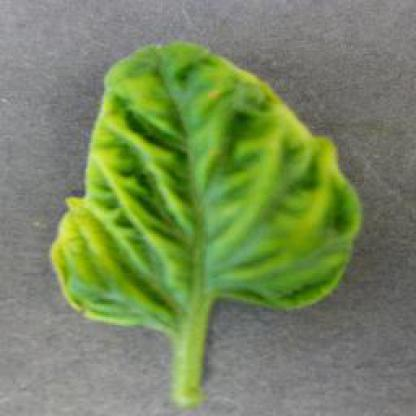good leaf: (27, 11, 361, 414)
